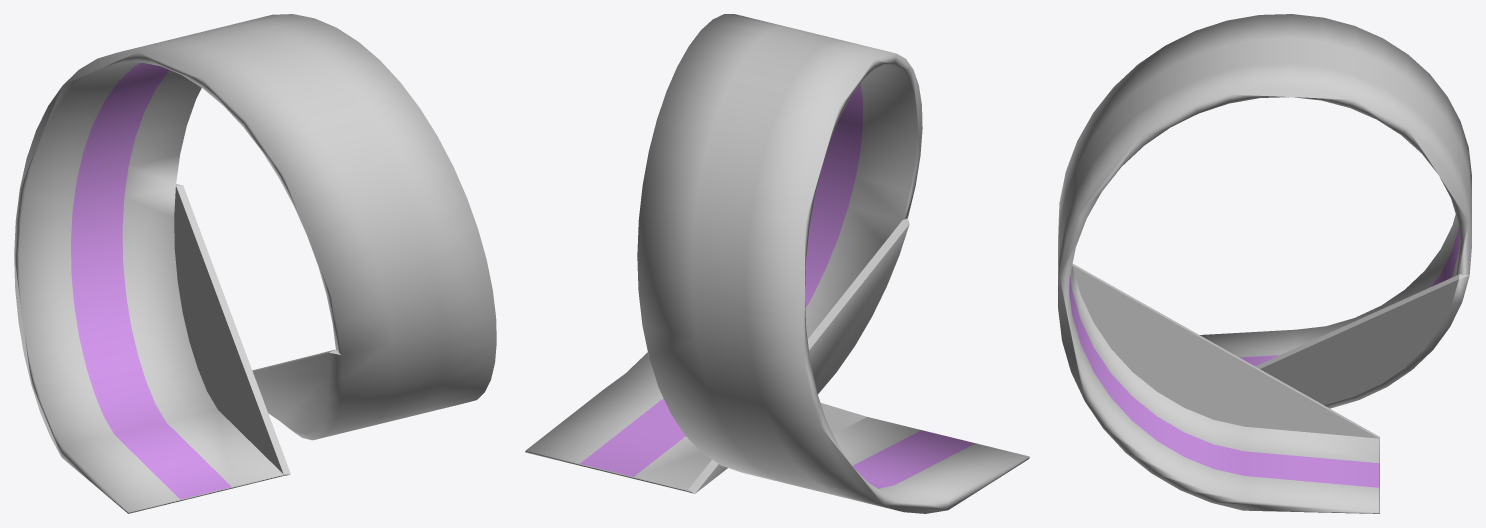
The model's file is closed_looping.fbx.
3 renders of one model, left to right at view 1: azimuth 30°, elevation 25°; view 2: azimuth 150°, elevation 25°; view 3: azimuth 270°, elevation 25°, orthographic. The views are drawn at different scales.
Parts seen in each view (by area): view 1: closed_looping; view 2: closed_looping; view 3: closed_looping.
Part boxes in pixels (x1=…): closed_looping: x1=14, y1=14, x2=496, y2=513; closed_looping: x1=525, y1=14, x2=1029, y2=513; closed_looping: x1=1058, y1=14, x2=1471, y2=513.
Bounding box in the file's own units: 25 × 25 × 25.
